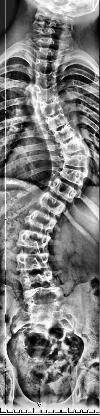Vertebrae: (22, 285, 66, 311), (34, 194, 72, 216), (23, 209, 61, 231), (20, 273, 56, 291), (17, 231, 52, 249), (16, 253, 50, 271), (42, 113, 74, 132), (58, 166, 90, 184), (48, 182, 80, 200), (51, 125, 81, 143), (62, 152, 92, 170), (38, 100, 66, 118), (60, 139, 88, 156), (34, 88, 62, 104), (32, 72, 58, 89)
